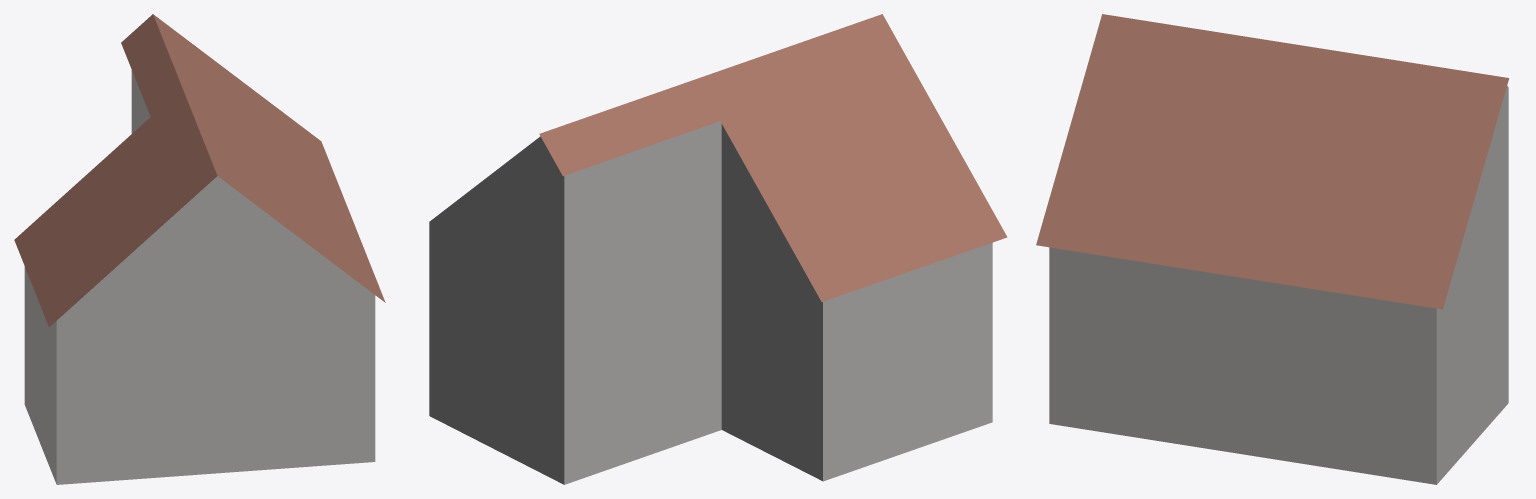
3 views of the same model, side by side, from view 1: azimuth 30°, elevation 25°; view 2: azimuth 150°, elevation 25°; view 3: azimuth 270°, elevation 25° (orthographic). The views are drawn at different scales.
Visible parts, largest first — view 1: buildings; view 2: buildings; view 3: buildings.
Boxes of the visible parts, left/top/right/bottom form: buildings: left=14, top=14, right=385, bottom=484; buildings: left=429, top=14, right=1007, bottom=484; buildings: left=1036, top=14, right=1509, bottom=484.
Bounding box in the file's own units: 14.88 × 10.85 × 14.19.
